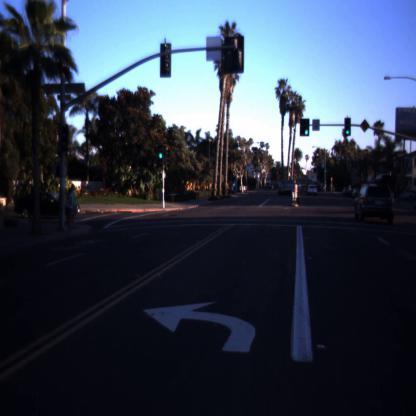trafficlight: (301, 119, 309, 135), (345, 119, 351, 136), (158, 148, 163, 164)
